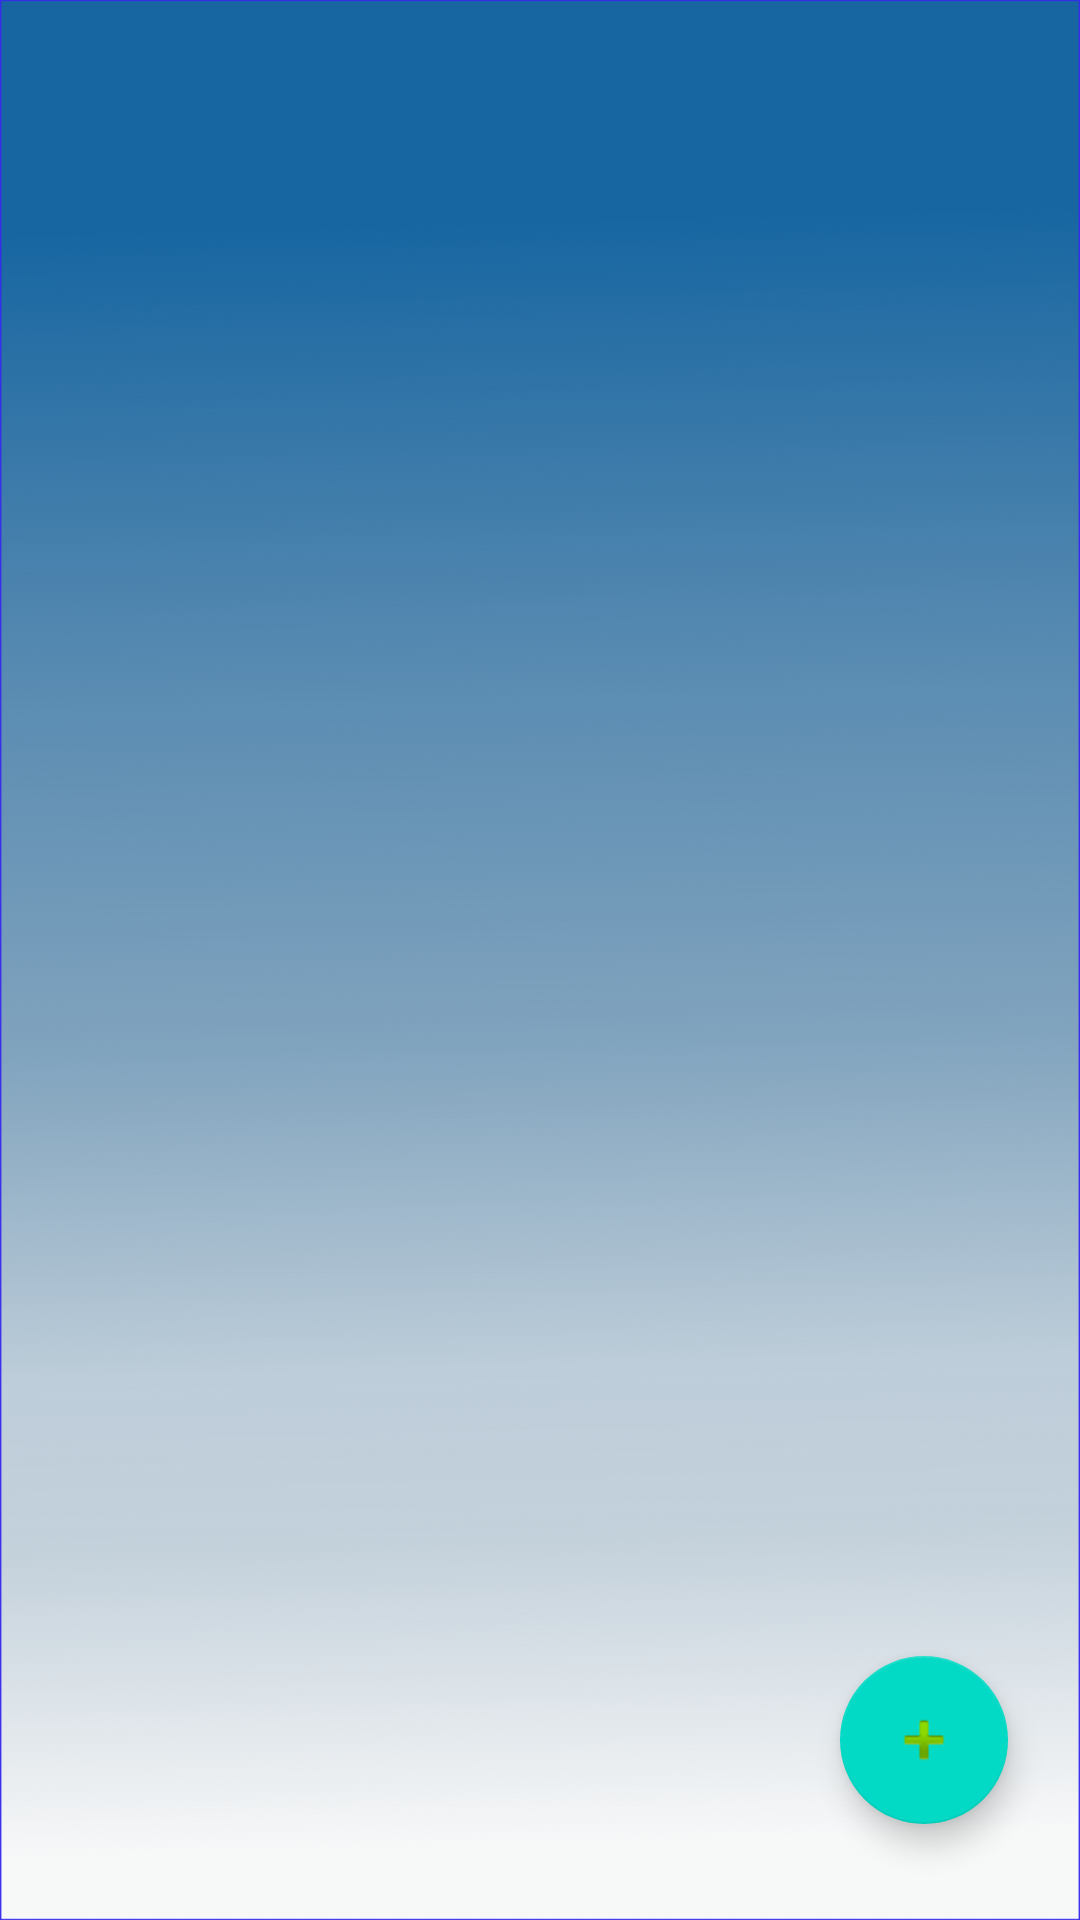

Screen size 1080px×1920px. Icon name, then its center in pixels as (x,y):
add: (924,1740)
